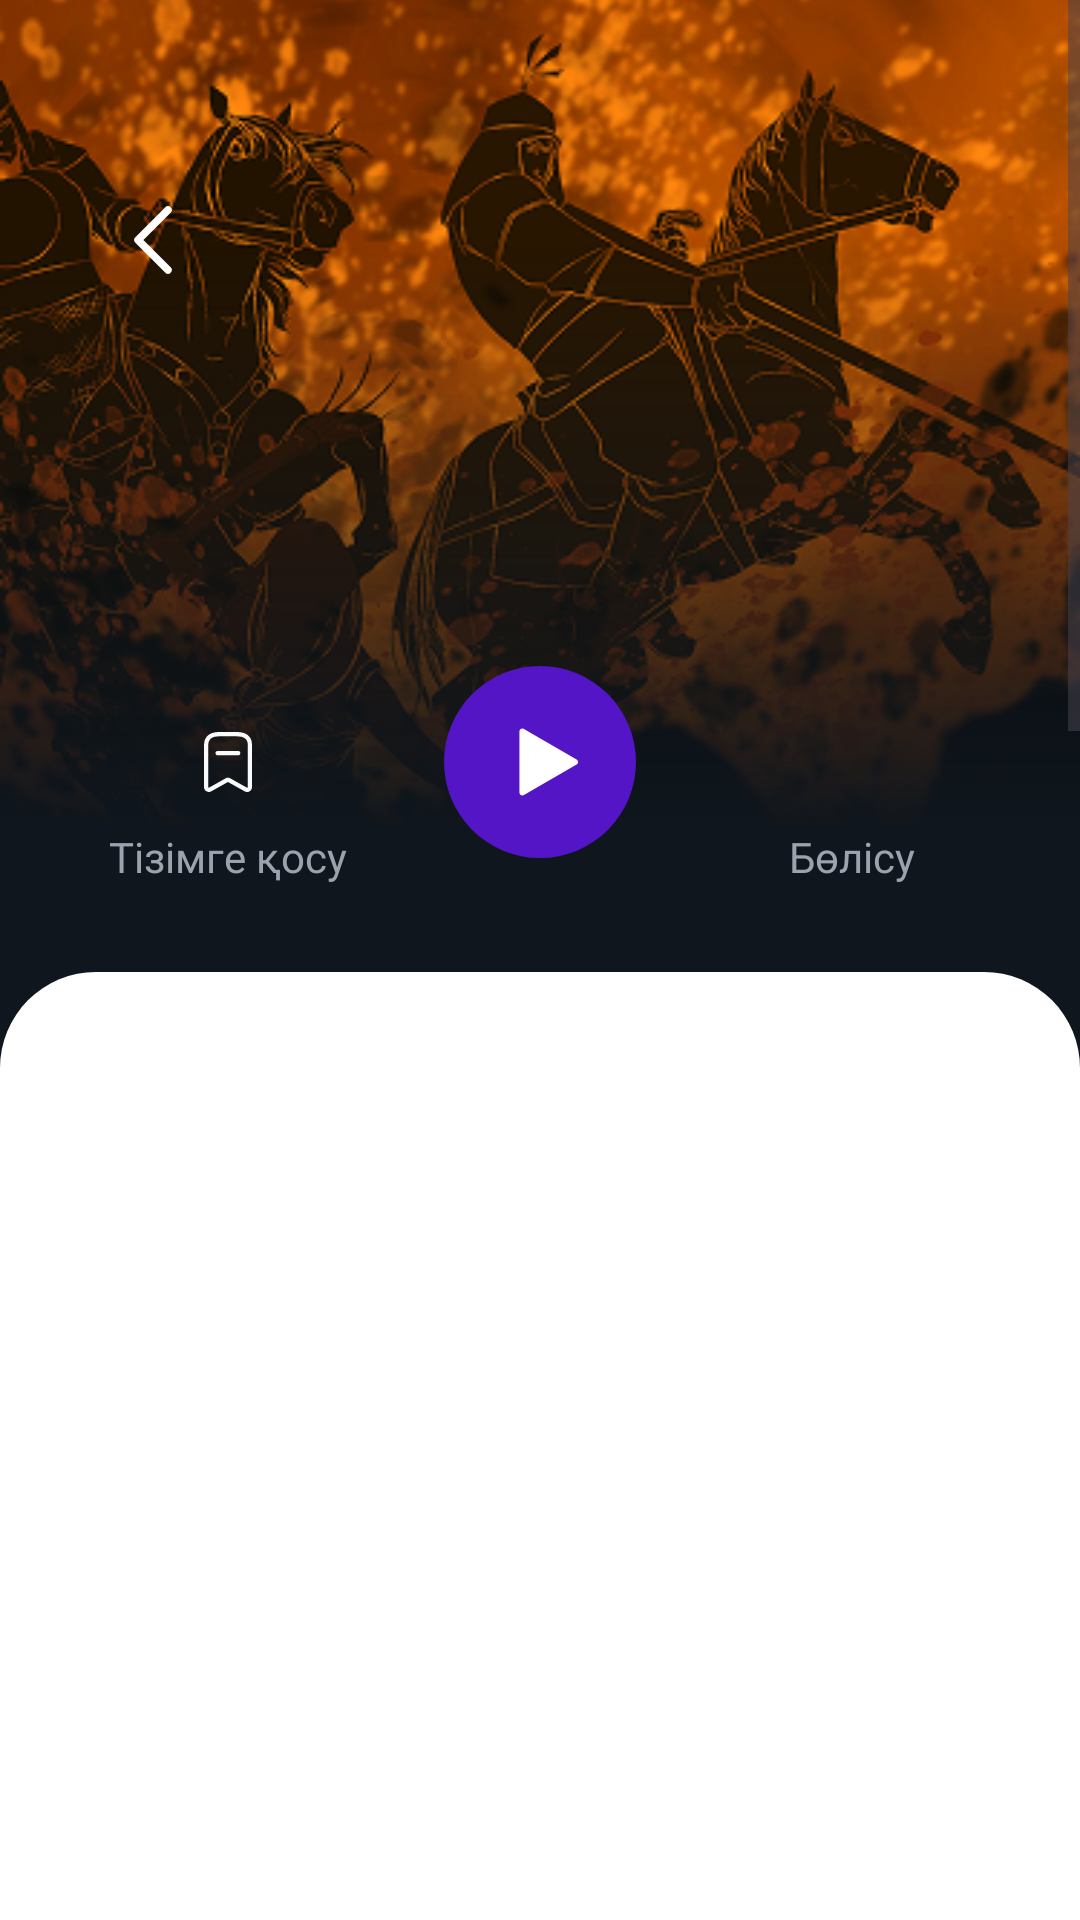

Where icons sit on this 1080x1920 app screen, as Rect(x1, y1, x2, y2):
bookmark: Rect(204, 732, 252, 792)
play: Rect(444, 666, 636, 858)
